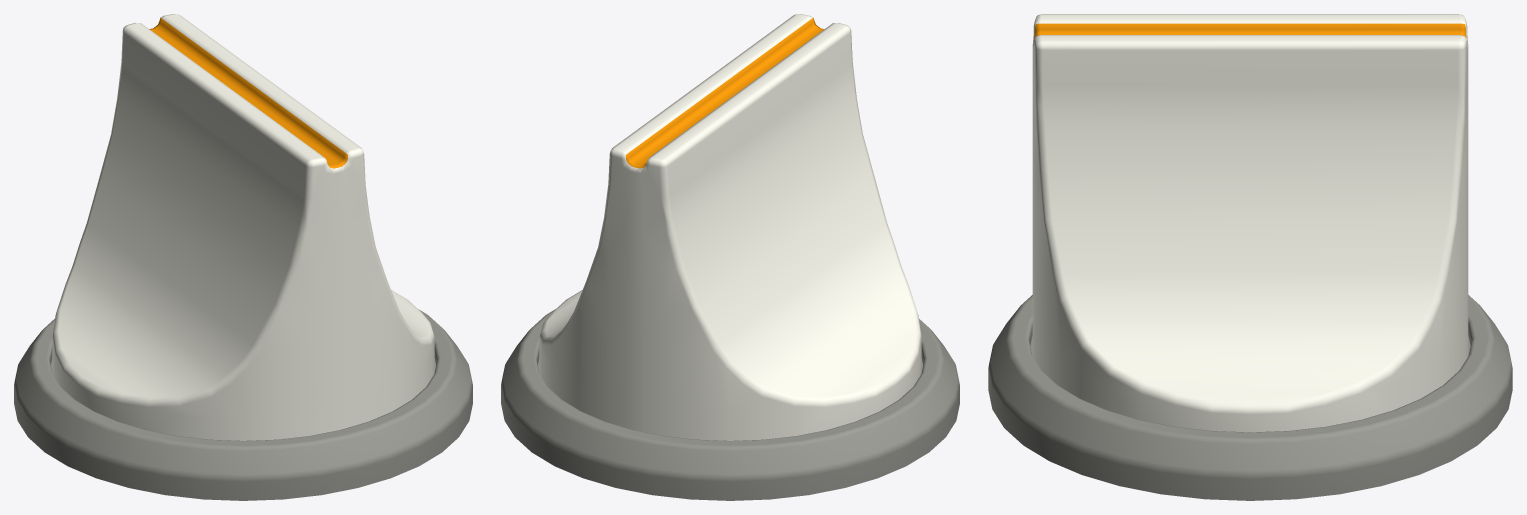
Rendered from Switch #3.fbx.
The picture shows the model from 3 angles, left to right: view 1: azimuth 30°, elevation 25°; view 2: azimuth 150°, elevation 25°; view 3: azimuth 270°, elevation 25°; orthographic projection. The views are drawn at different scales.
Visible parts, largest first — view 1: kitbash_38; view 2: kitbash_38; view 3: kitbash_38.
Boxes of the visible parts, left/top/right/bottom form: kitbash_38: left=14, top=14, right=472, bottom=500; kitbash_38: left=501, top=14, right=959, bottom=500; kitbash_38: left=988, top=14, right=1512, bottom=500.
Size of the model in its own units: 4.29 by 3.28 by 4.29.
